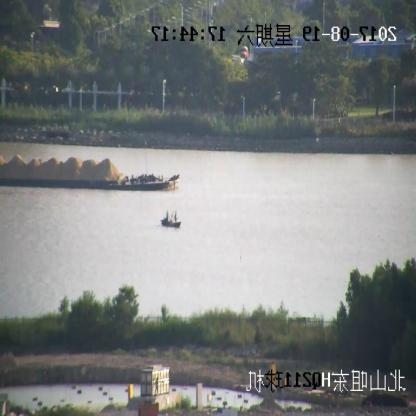Fishing Boat: (160, 209, 182, 229)
